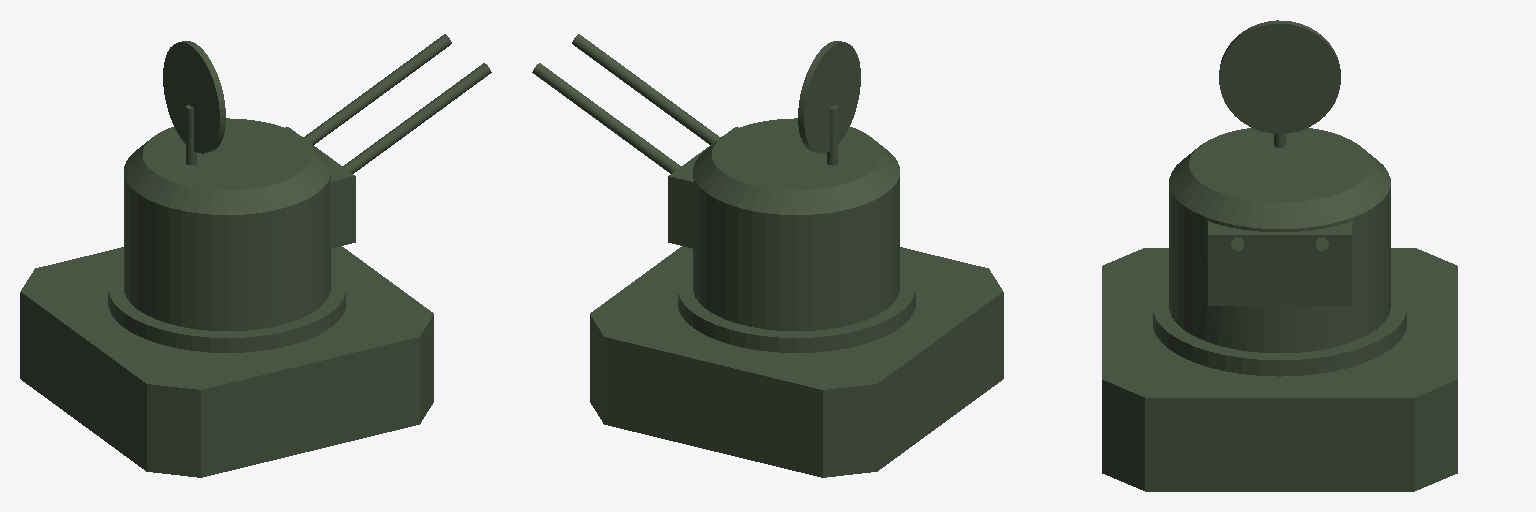
robot.urdf — defence:
<?xml version="1.0"?>
<robot name="defence">
  <material name="body"><color rgba="0.33 0.38 0.3 1"/></material>
  <link name="base_link">
    <inertial>
      <origin xyz="0 0 0"/>
      <mass value="0"/>
      <inertia ixx="0" iyy="0" izz="0" ixy="0" ixz="0" iyz="0"/>
    </inertial>
    <visual>
      <origin xyz="0 0 0"/>
      <geometry><mesh filename="defence.stl" scale="0.001 0.001 0.001"/></geometry>
      <material name="body"/>
    </visual>
    <collision>
      <origin xyz="0 0 0.35"/>
      <geometry><box size="2.4 2.4 0.7"/></geometry>
    </collision>
    <collision>
      <origin xyz="0 0 1.35"/>
      <geometry><cylinder radius="0.75" length="1.300"/></geometry>
    </collision>
  </link>
</robot>

--- Render facts (derived) ---
3 views of the same robot in one strip: view 1: azimuth 30°, elevation 25°; view 2: azimuth 150°, elevation 25°; view 3: azimuth 270°, elevation 25° (orthographic).
Robot: defence — 1 links, 0 joints (none); root link base_link; default pose: every joint at zero.
Links seen in each view (by area): view 1: base_link; view 2: base_link; view 3: base_link.
Boxes of the visible links, box(x1,y1,x2,y2) form: base_link: box(20, 34, 491, 477); base_link: box(532, 34, 1003, 477); base_link: box(1102, 20, 1457, 491).
Size in the robot's own frame: 3.23 by 2.4 by 2.81 metres.
1 mesh visuals loaded from 1 distinct referenced files (1 binary STL).
